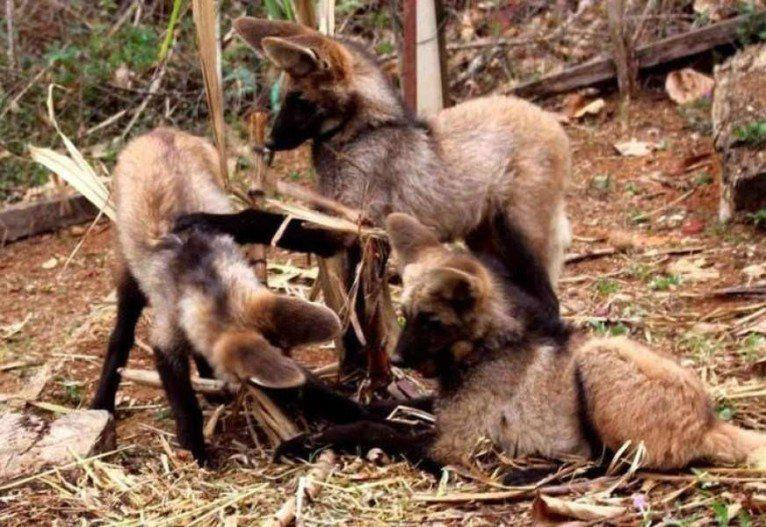LoboGuara: (361, 214, 755, 490), (227, 11, 605, 292), (87, 123, 359, 474)
